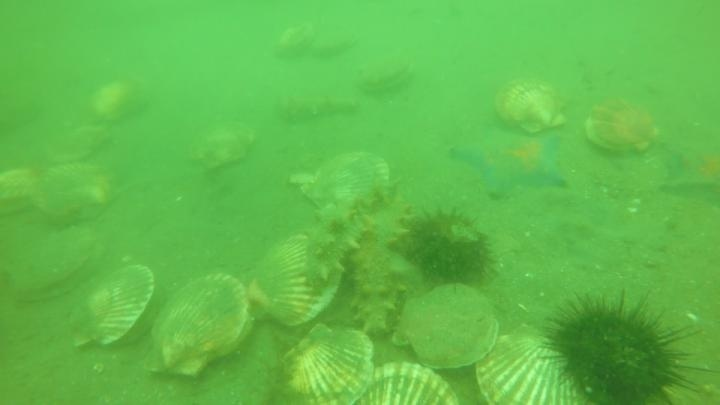echinus: (540, 286, 704, 405), (397, 206, 498, 289)
holothurian: (346, 186, 417, 339), (298, 199, 369, 288), (274, 88, 359, 125)
scallop: (144, 268, 256, 382), (238, 225, 348, 336), (392, 282, 503, 375), (470, 323, 588, 405), (3, 217, 103, 305), (274, 323, 379, 404), (68, 262, 160, 354), (294, 149, 398, 220), (28, 158, 118, 224), (341, 361, 461, 405), (582, 94, 662, 159), (491, 75, 570, 138), (188, 118, 258, 173), (45, 122, 112, 168), (87, 74, 146, 126), (355, 54, 416, 97), (1, 165, 42, 221), (271, 21, 319, 62), (316, 28, 360, 55)
starfish: (448, 127, 571, 200), (658, 143, 719, 204)
